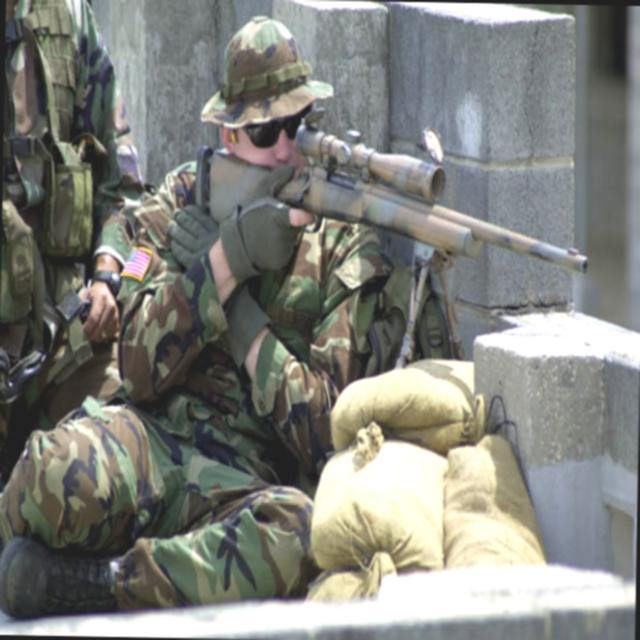rifle: (193, 109, 598, 288)
